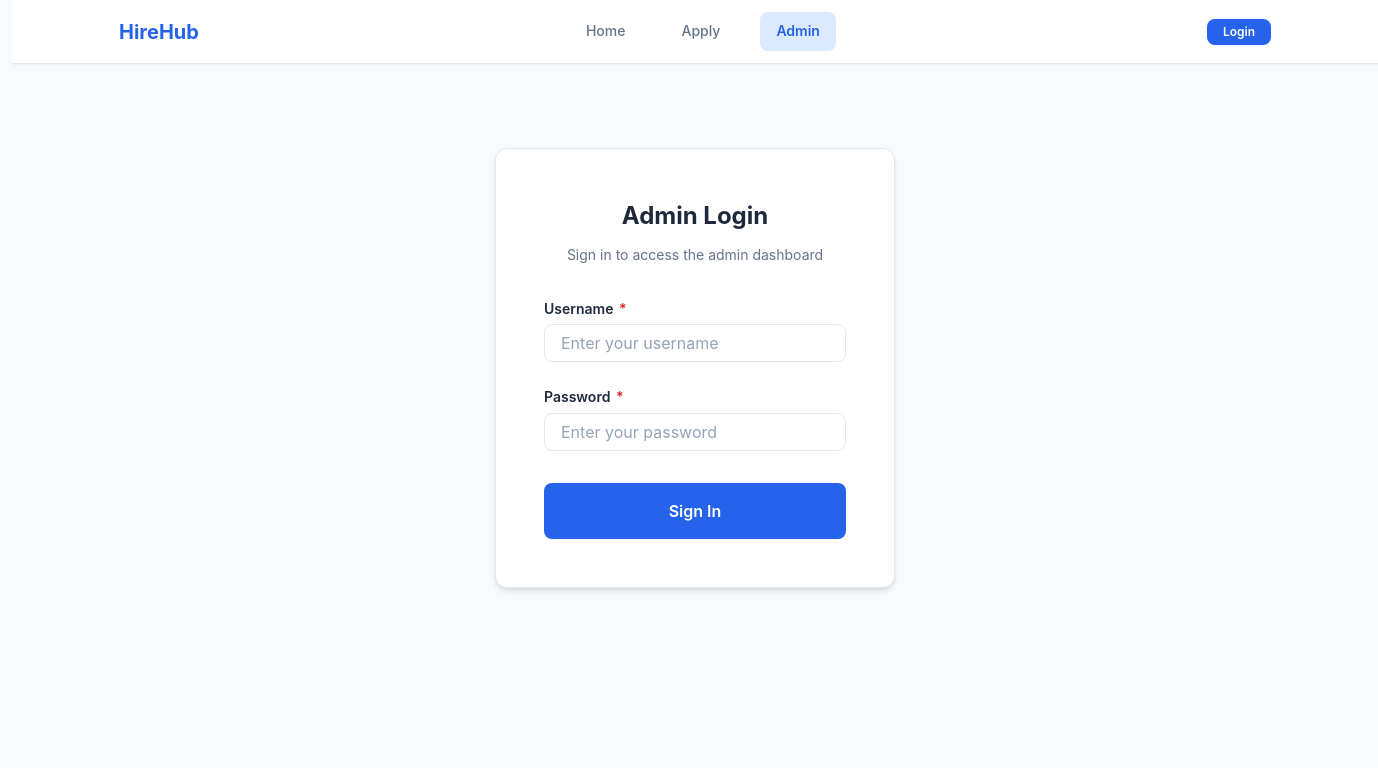
App › Navigation between pages › navigates back to home when clicking Home link
The image size is (1378, 768).
Step 1. Click the link "Apply" → (701, 31), box [682,22,720,39]
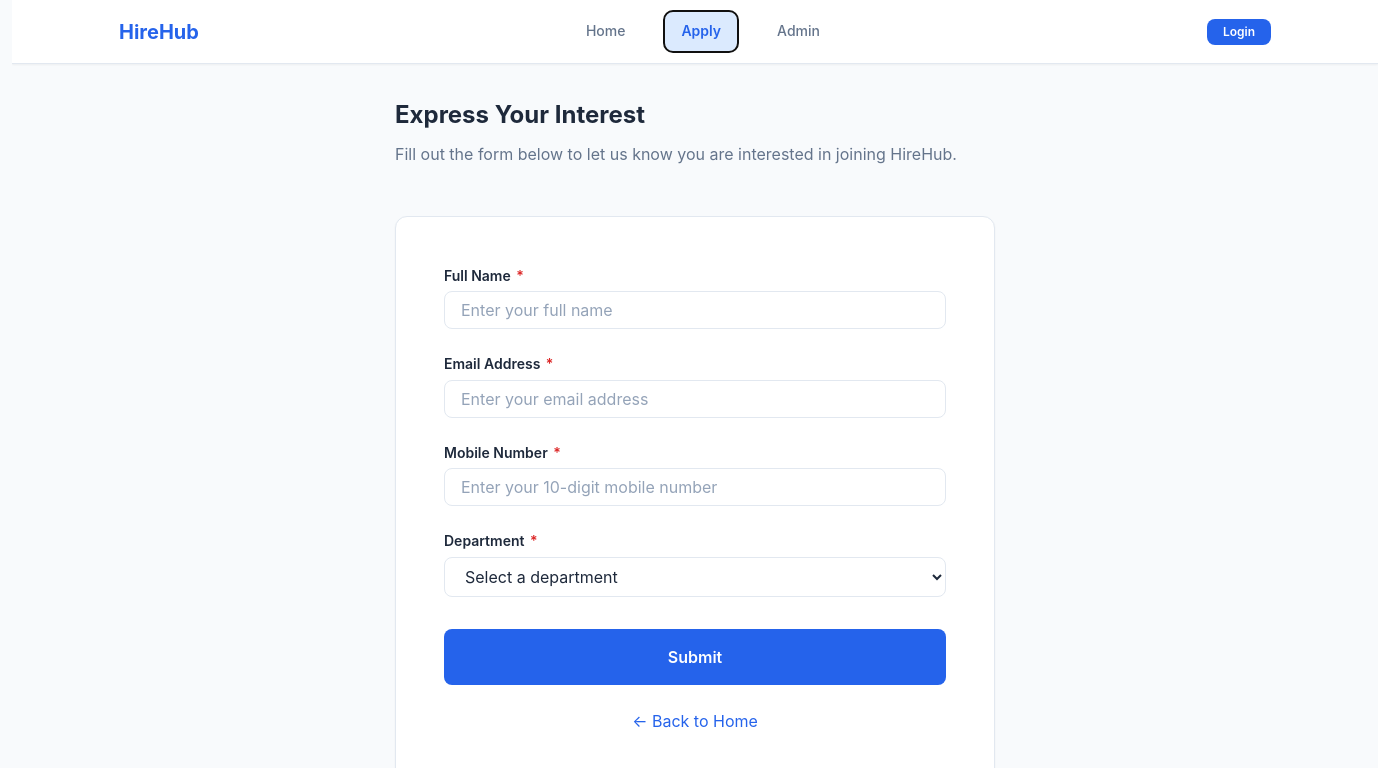
Result: the field labelled "Full Name *" is shown at [444,291,946,329]
Step 2. Click the link "Home" → (606, 31), box [586,22,625,39]
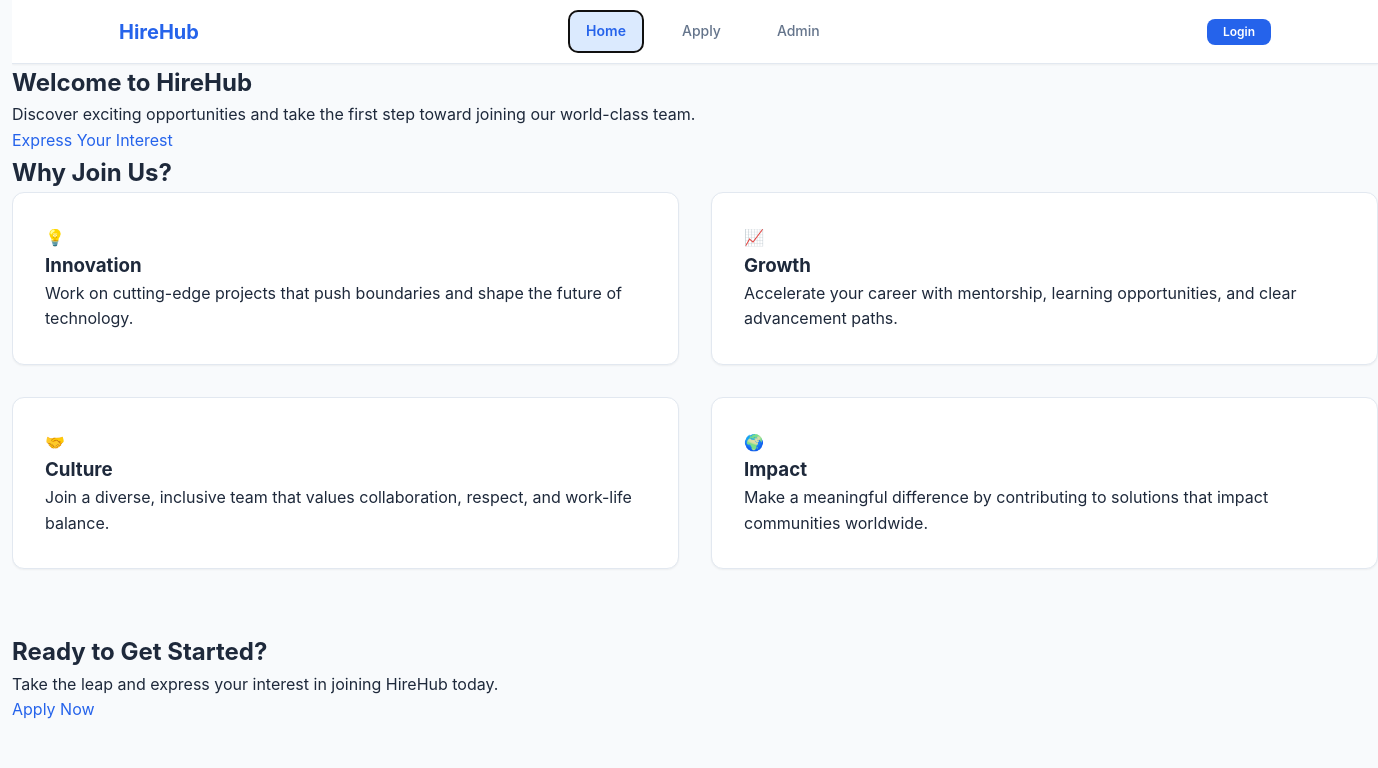
Result: the heading "Welcome to HireHub" is shown at [12,68,252,97]
